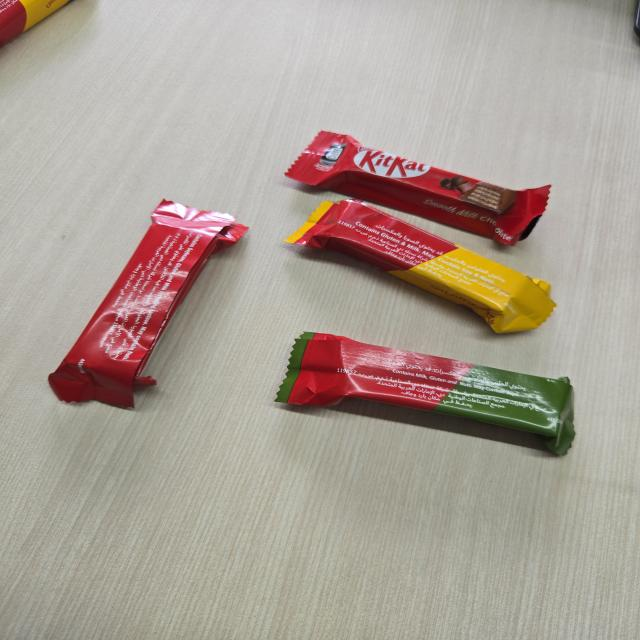chocolate-bar: (48, 193, 255, 409), (271, 326, 580, 460), (283, 195, 562, 336), (283, 126, 562, 248)
